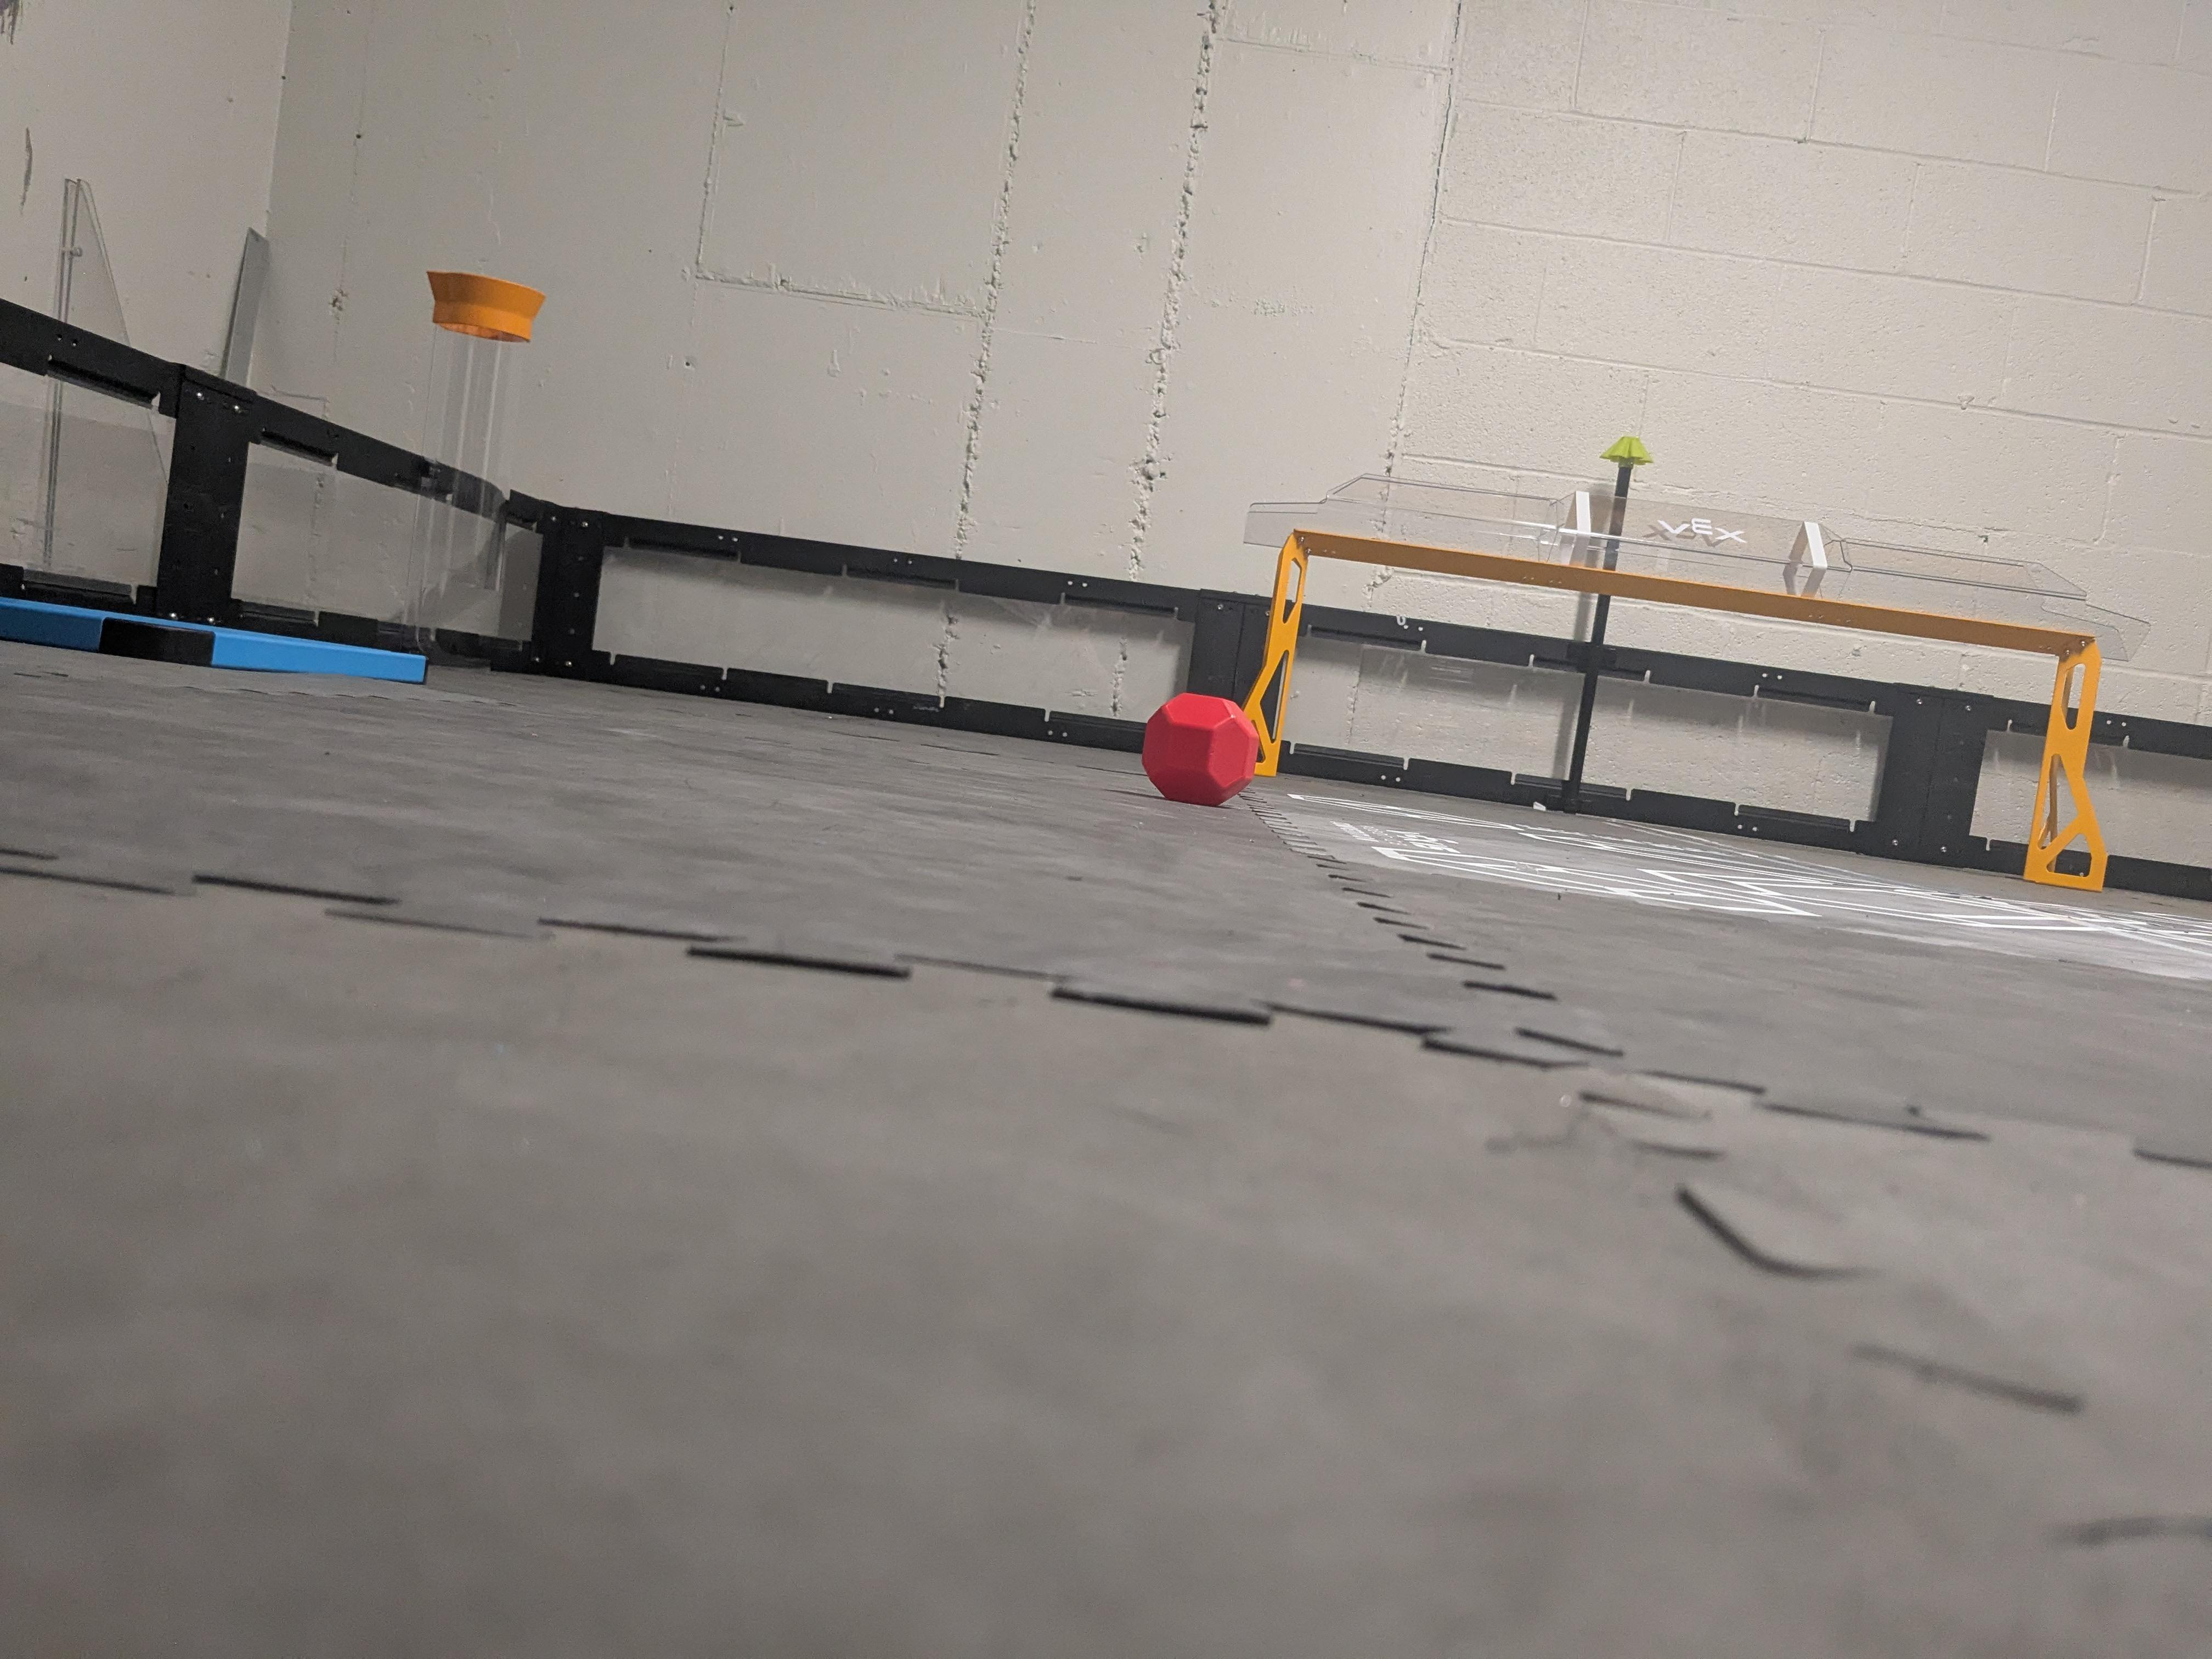Vex-Pieces-RED: (1143, 694, 1258, 805)
